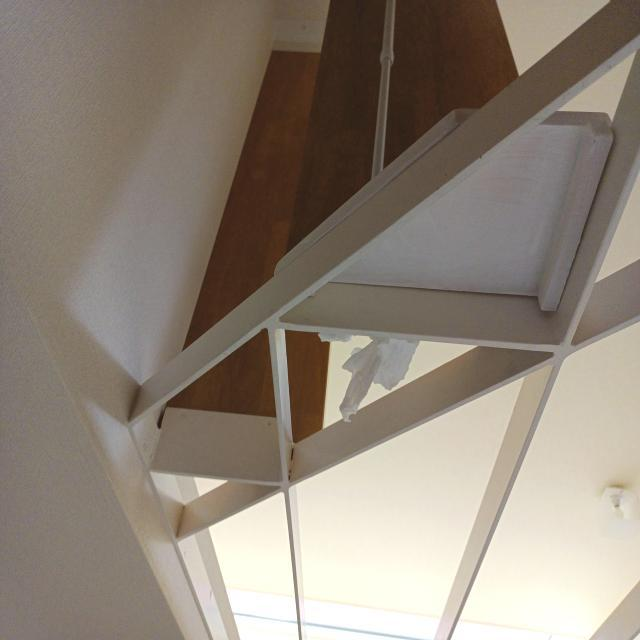Paper: (301, 315, 419, 439)
